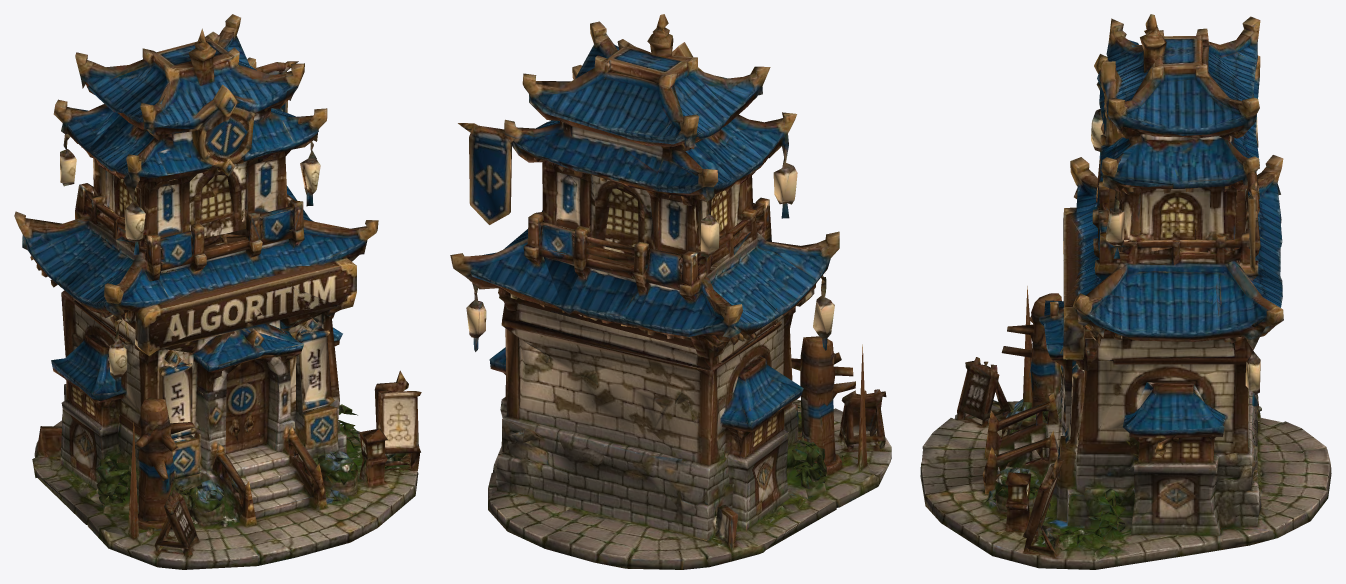
Rendered from study-codingtest.glb.
3 renders of one model, left to right at view 1: azimuth 30°, elevation 25°; view 2: azimuth 150°, elevation 25°; view 3: azimuth 270°, elevation 25°, orthographic. The views are drawn at different scales.
Parts seen in each view (by area): view 1: Mesh1.0; view 2: Mesh1.0; view 3: Mesh1.0.
Part boxes in pixels (x1,y1,x2,y2): Mesh1.0: (14,14,421,569); Mesh1.0: (450,14,891,569); Mesh1.0: (920,14,1331,569).
Size of the model in its own units: 1.41 by 1.9 by 1.51.
1 material, 1 textured.
